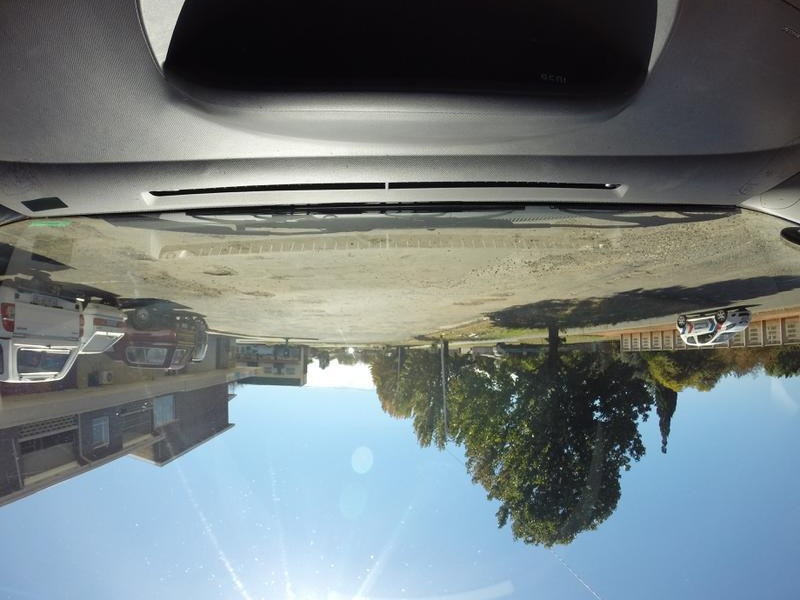pothole: (194, 265, 235, 279), (232, 286, 273, 300)
